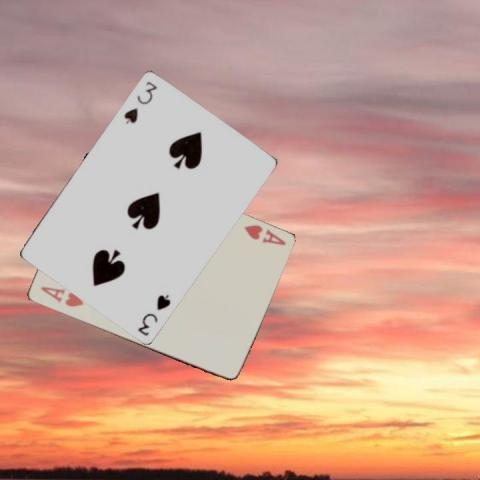3s: (121, 77, 158, 126), (135, 290, 172, 337)
Ah: (36, 283, 84, 309), (241, 222, 287, 248)
